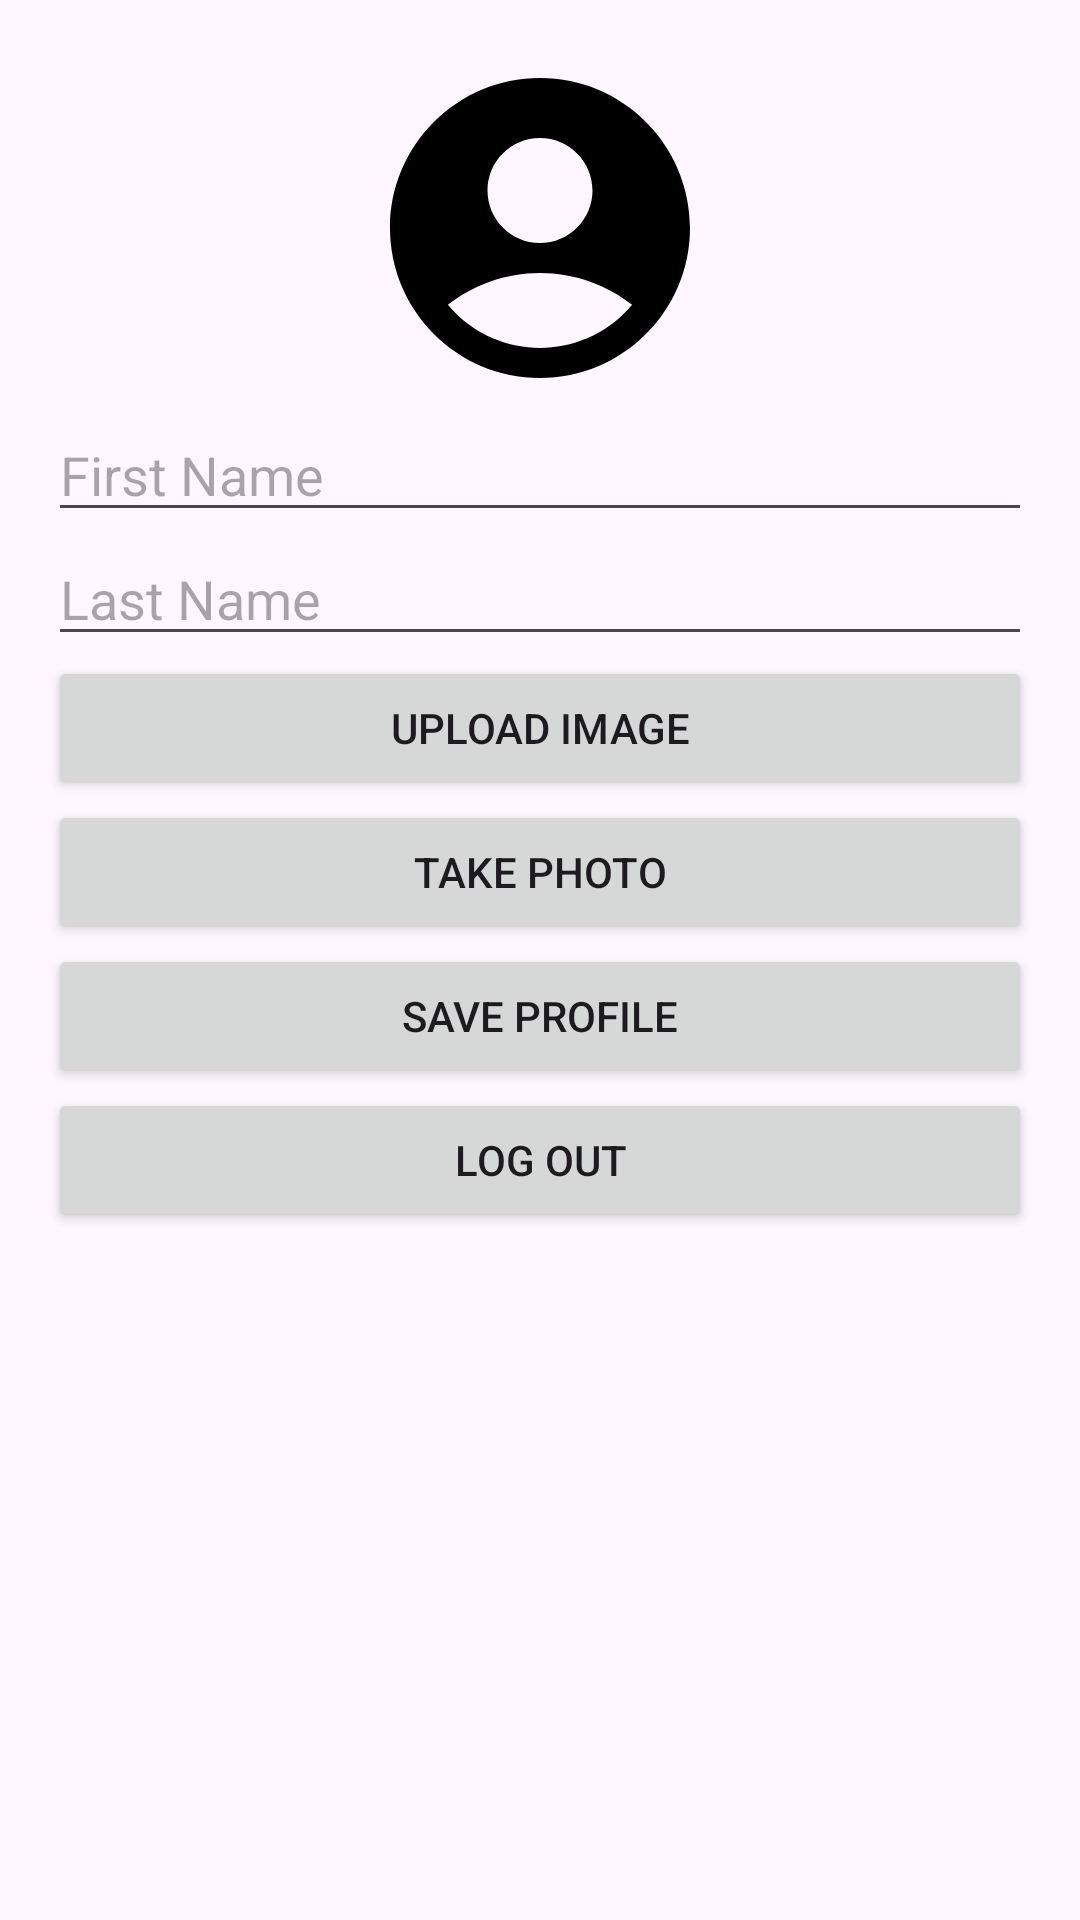

Named icons in this screenshot (1080px×1920px) and their bounding boxes, [x1,y1,x2,y2]:
account circle: [390,78,690,378]
